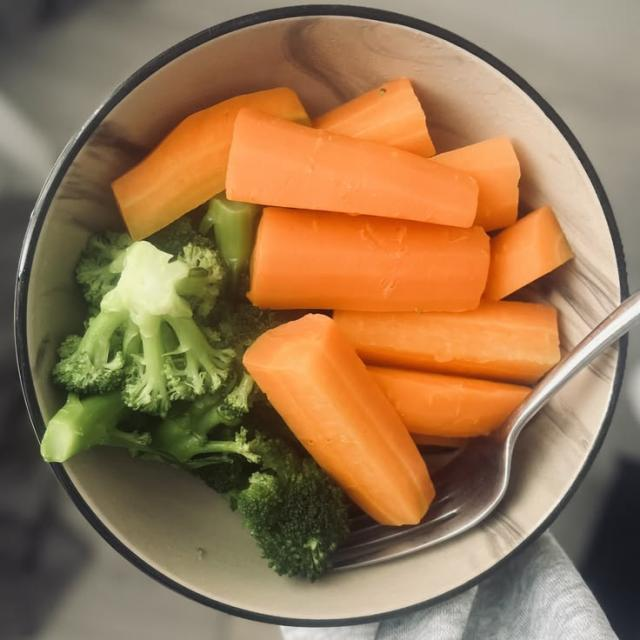broccoli: (54, 241, 235, 415), (233, 434, 348, 581), (153, 374, 259, 470), (148, 217, 225, 319), (41, 392, 151, 462), (54, 312, 127, 393), (200, 193, 259, 290), (76, 232, 132, 315), (214, 301, 284, 354), (177, 243, 224, 320), (147, 216, 213, 256)
carrot: (244, 314, 434, 524), (225, 109, 478, 228), (111, 88, 309, 239), (248, 207, 489, 311), (333, 302, 560, 383), (367, 366, 530, 438), (312, 77, 435, 157), (483, 205, 573, 300), (430, 137, 520, 230)
